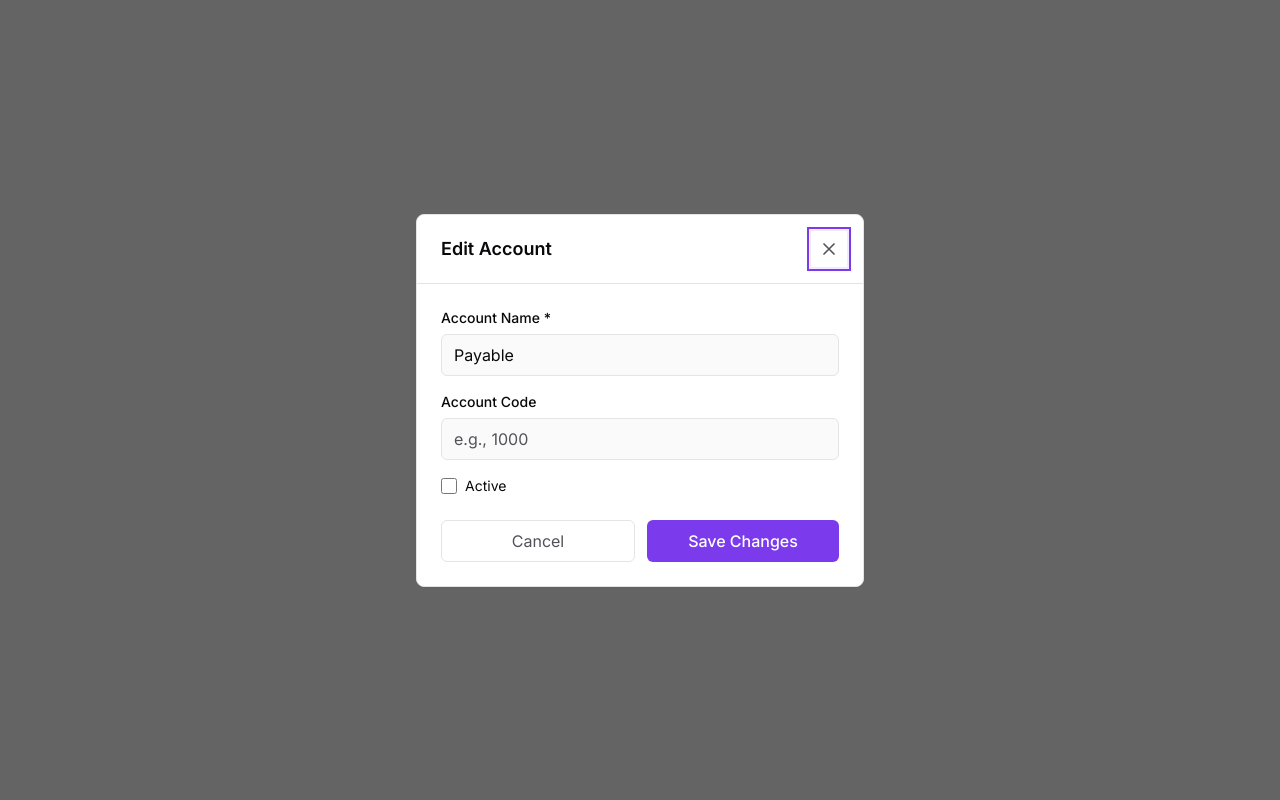
Scenario: AccountFormModal › AC16.21.3 shows API errors in edit flow
Replace the text in the field showing "Payable" with "Accounts Payable" at (640, 354), box [441, 334, 839, 376]
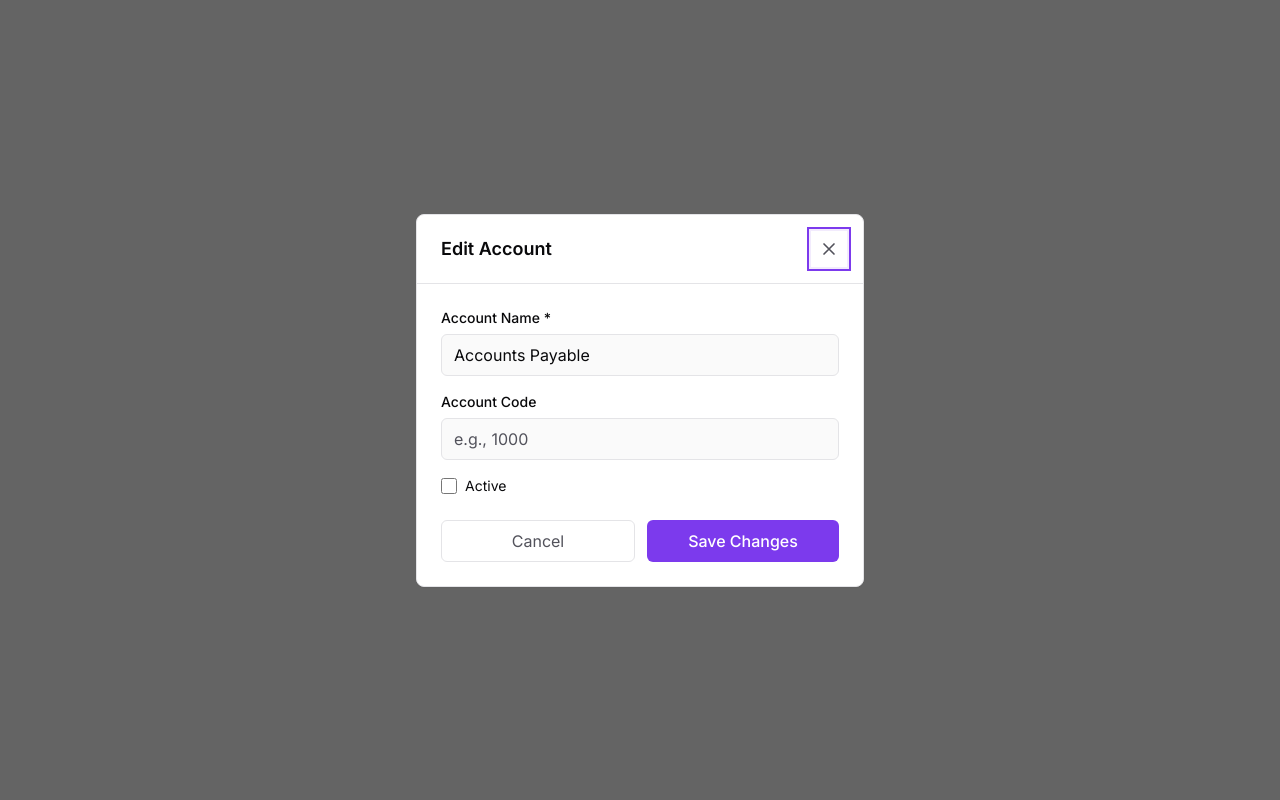
Click the button "Save Changes" at (743, 540), box [647, 520, 839, 562]
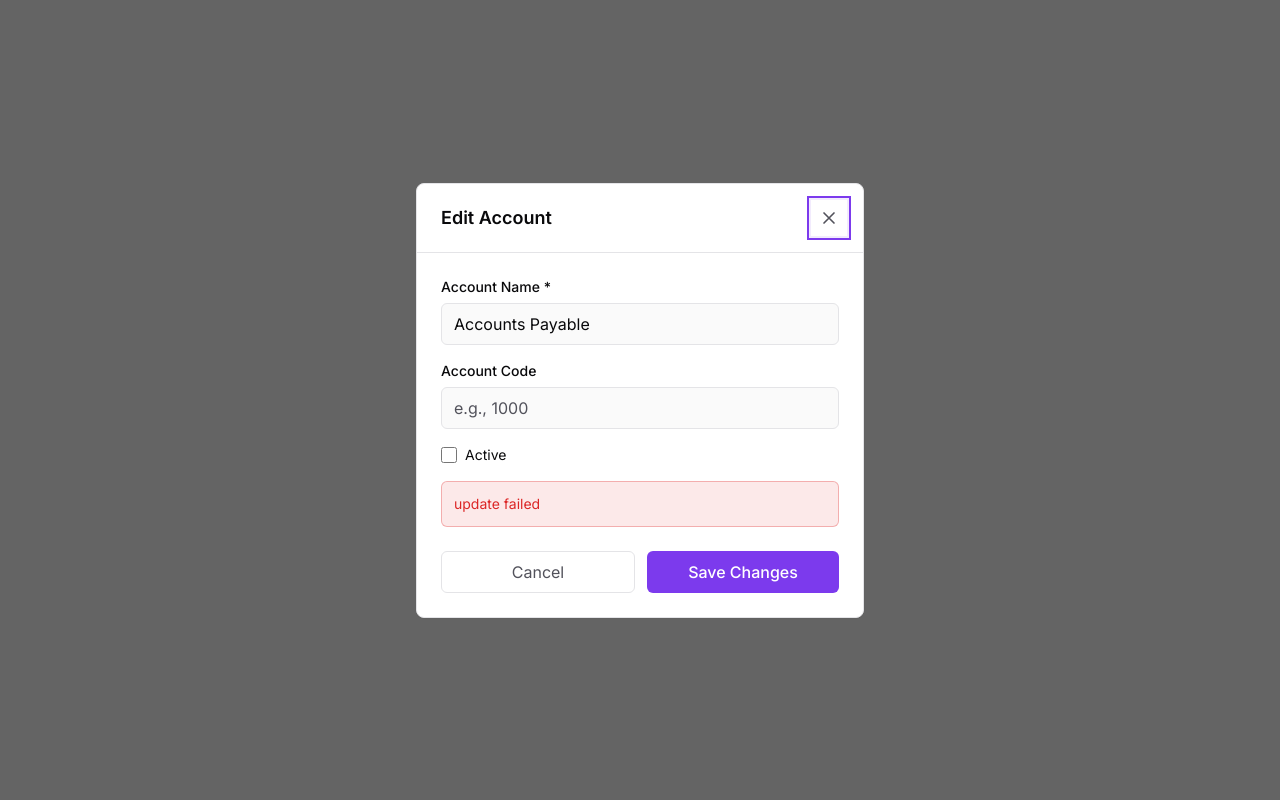
expect the text "update failed" is shown: met, box [441, 480, 839, 526]
